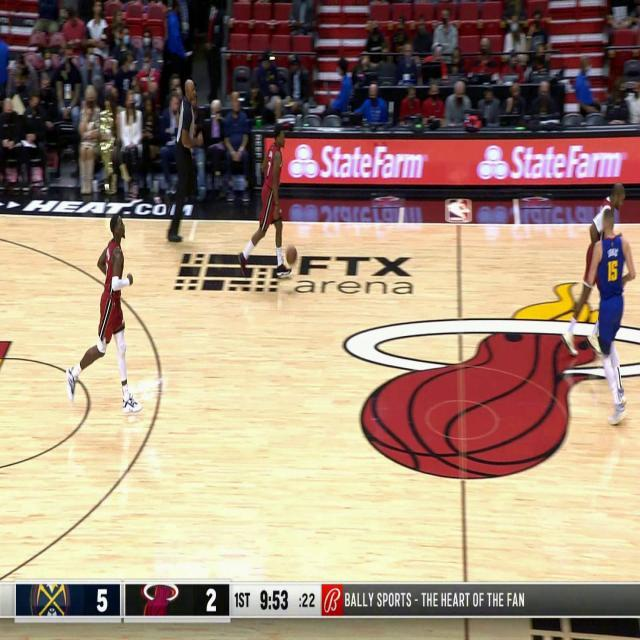rim: (286, 243, 297, 266)
